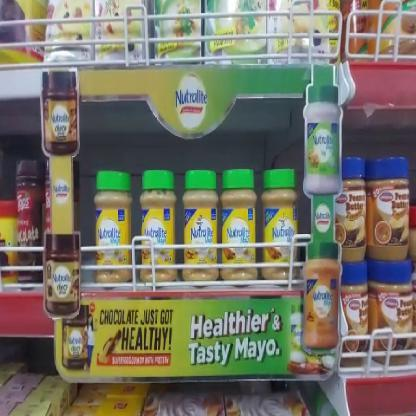Nutralite ACHARI MAYO 300g-275g-25g-: (260, 168, 298, 279), (223, 169, 257, 284)
Nutralite CHEESY GARLIC MAYO 300g-275g-25g-: (140, 168, 177, 279), (95, 168, 129, 281), (185, 169, 217, 279)
